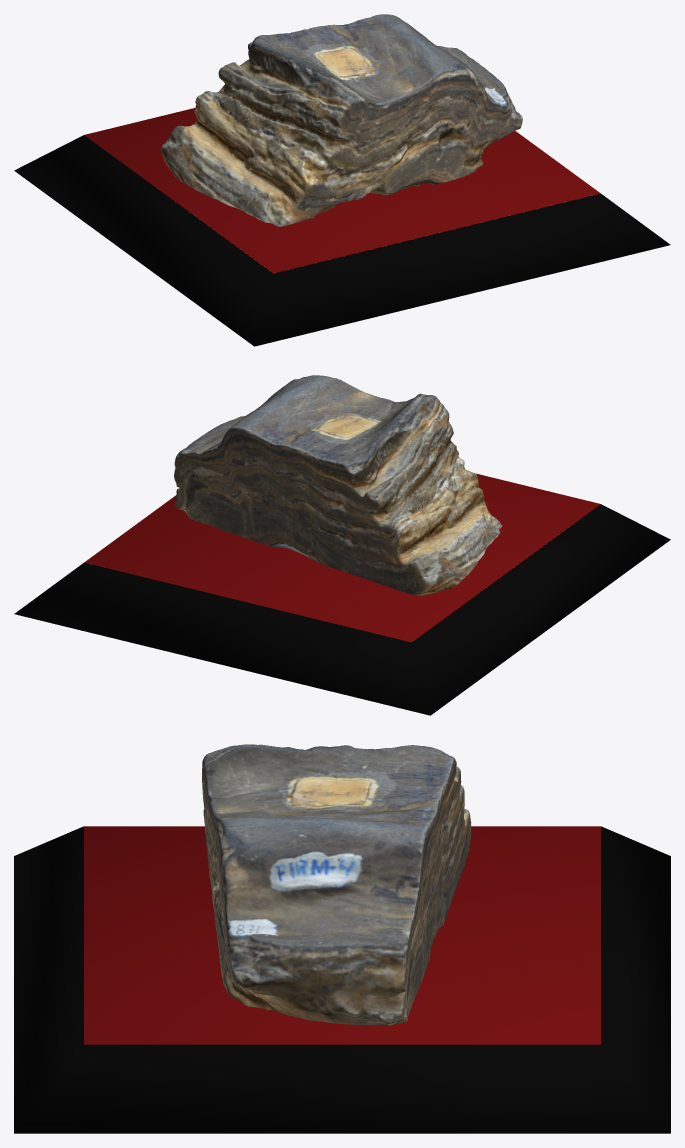
Rendered from Milonita.glb.
The picture shows the model from 3 angles, top to bottom: view 1: azimuth 30°, elevation 25°; view 2: azimuth 150°, elevation 25°; view 3: azimuth 270°, elevation 25°; orthographic projection. The views are drawn at different scales.
Parts seen in each view (by area): view 1: texturedMesh; view 2: texturedMesh; view 3: texturedMesh.
Boxes of the visible parts, x1,y1,x2,y2 form: texturedMesh: [14, 14, 670, 346]; texturedMesh: [14, 375, 670, 715]; texturedMesh: [14, 744, 670, 1133].
Size of the model in its own units: 10 by 3.75 by 10.
5 materials, 3 textured.
